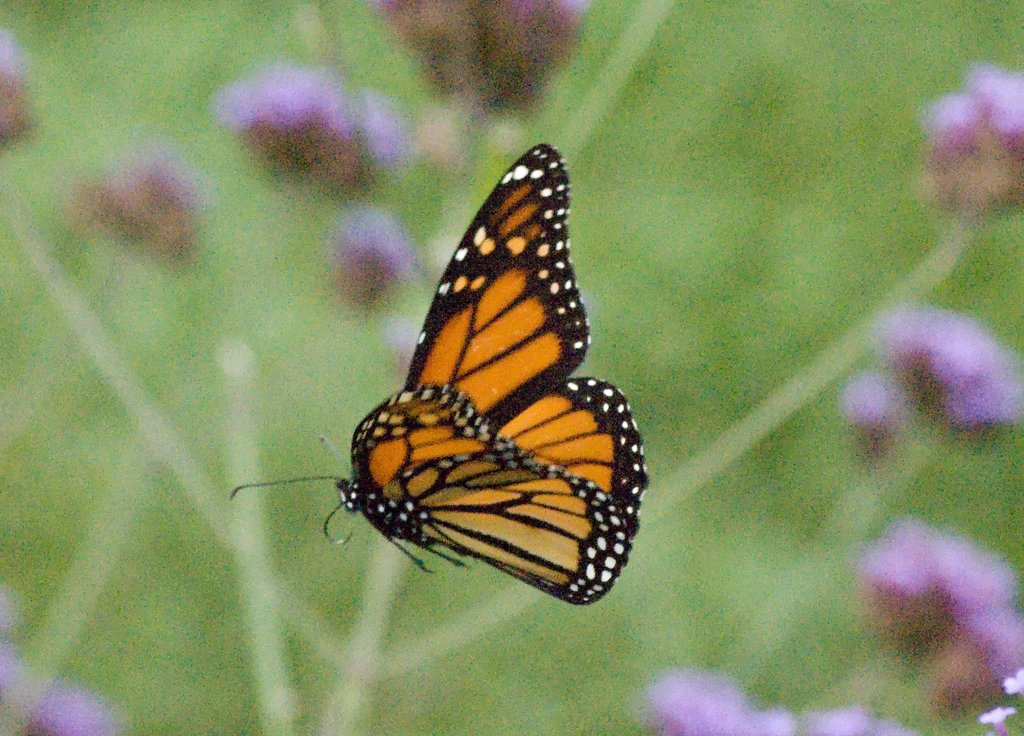Butterfly: (307, 145, 654, 605)
